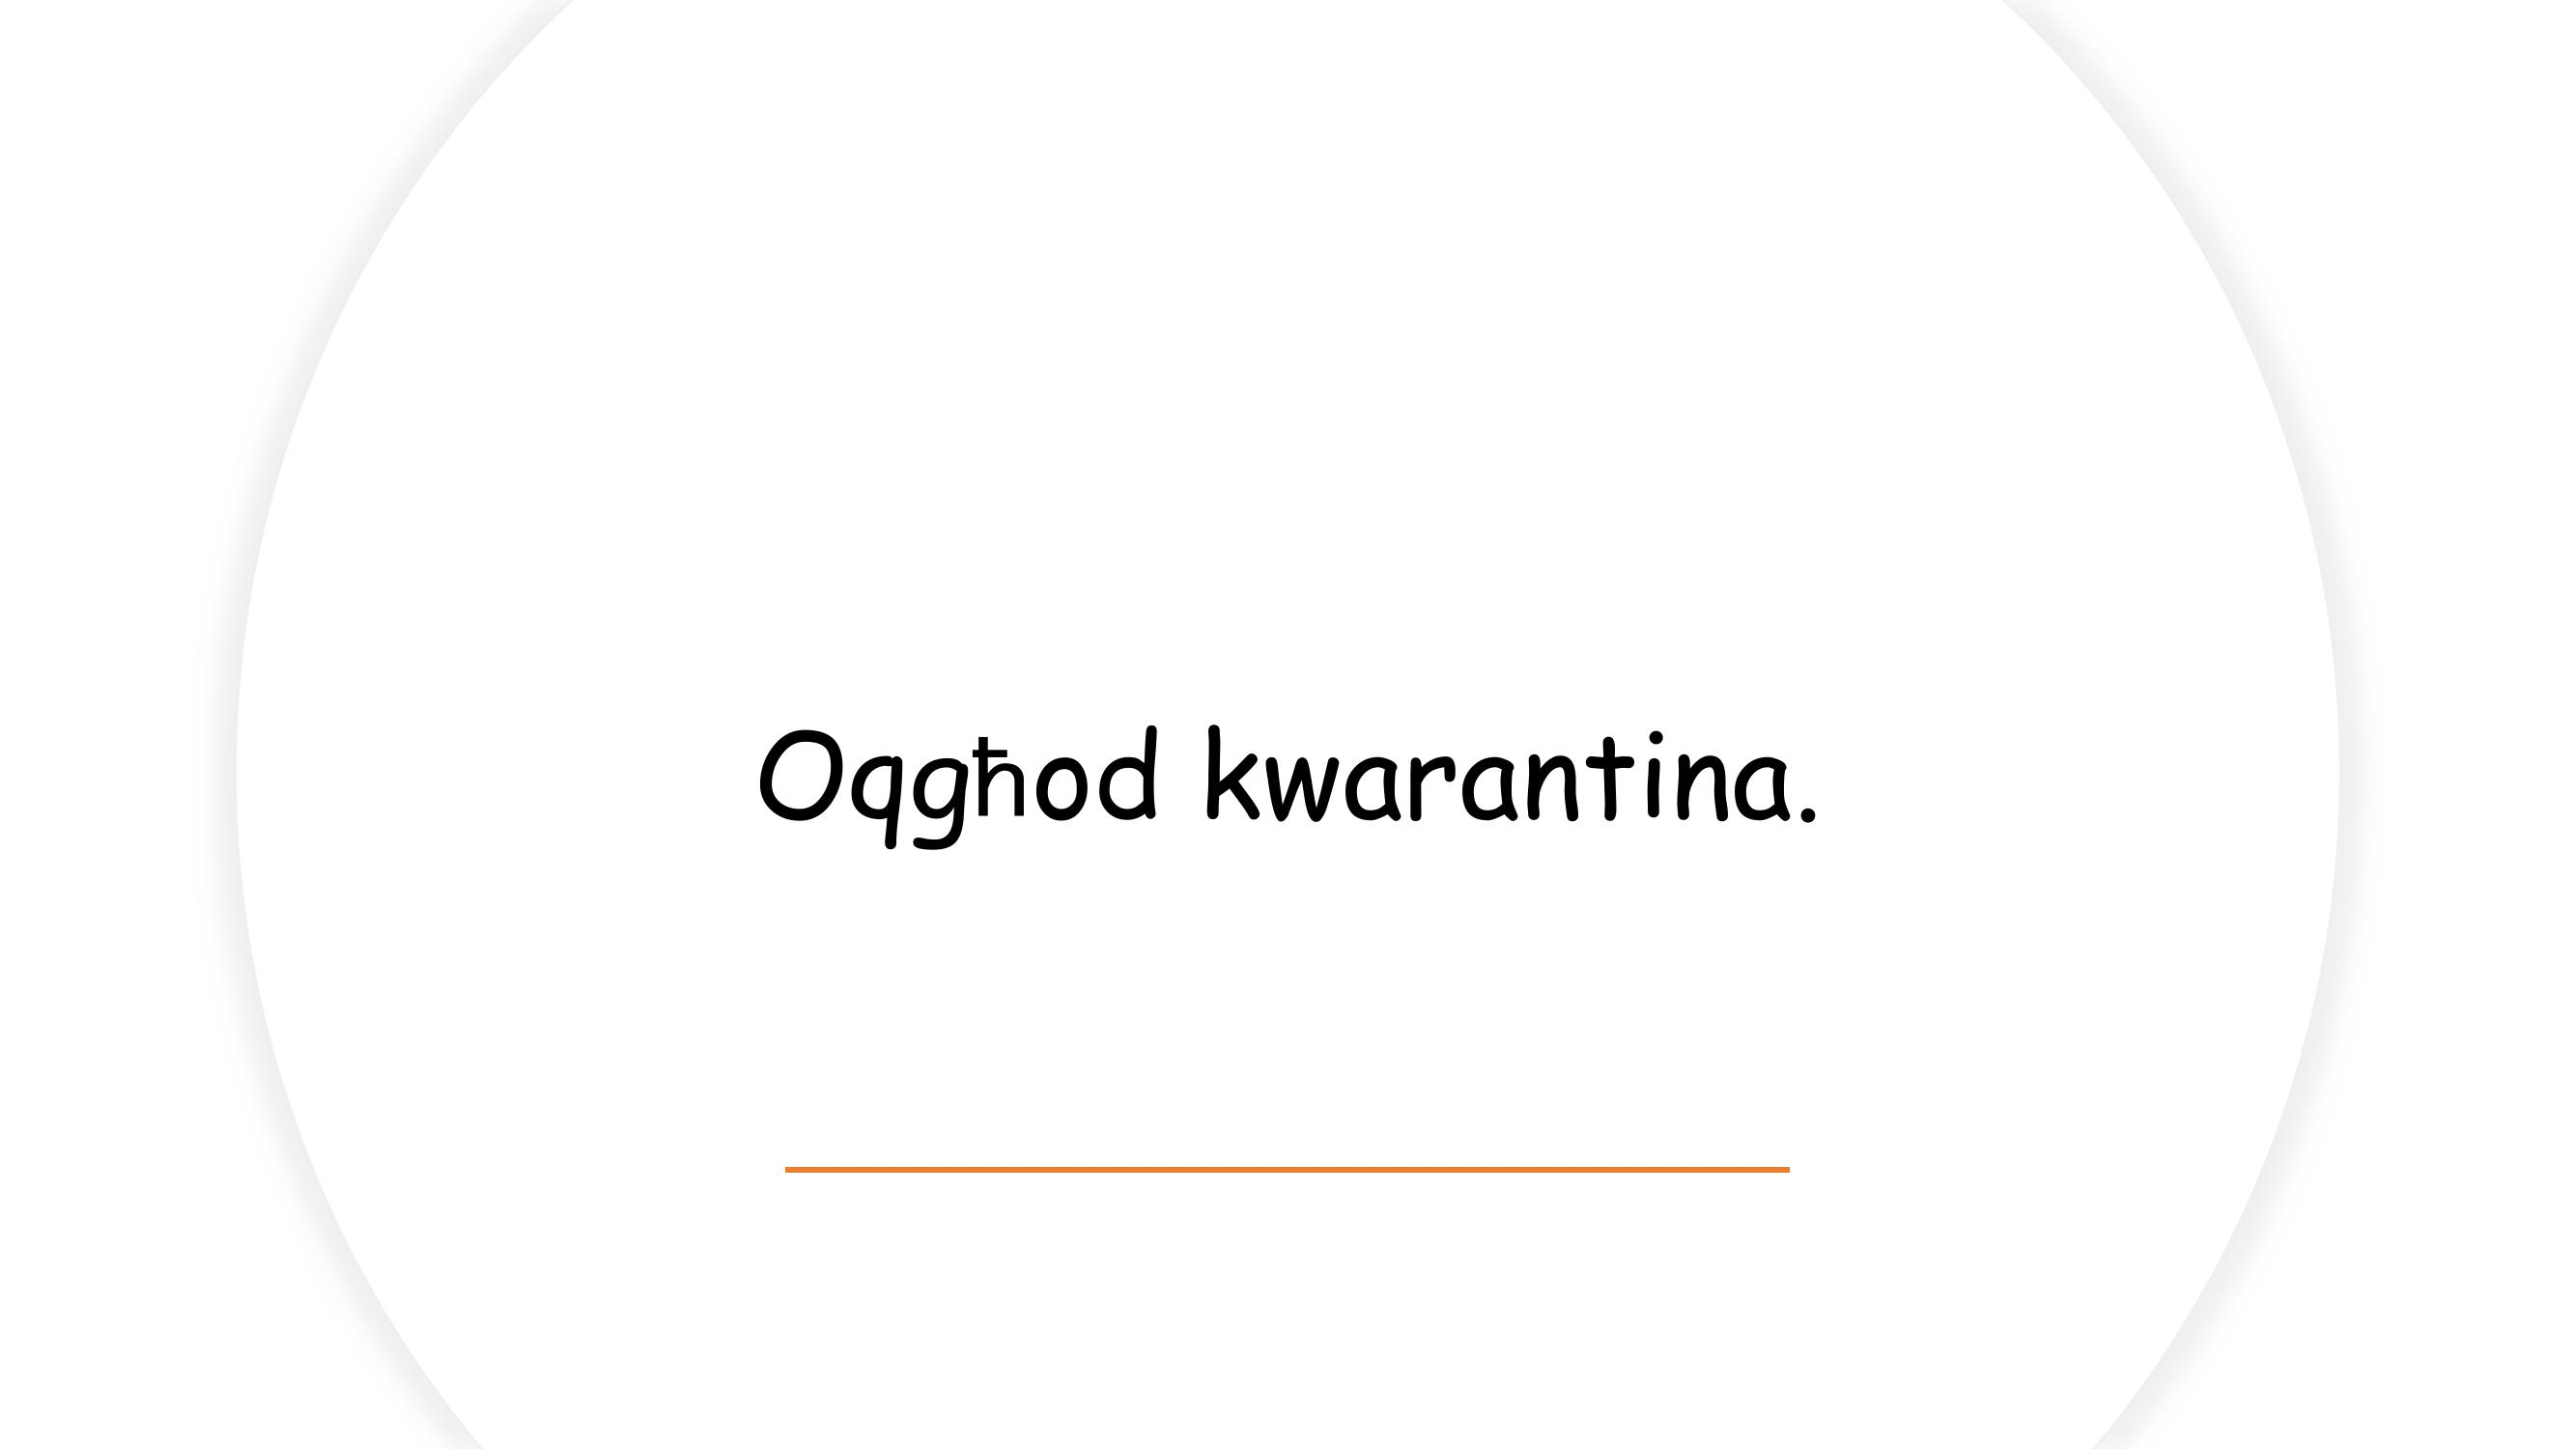text: (743, 681, 1842, 865)
